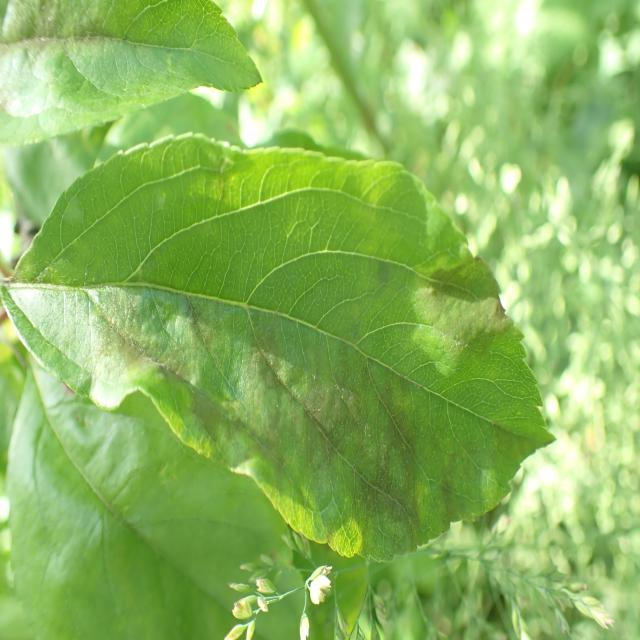scab: (36, 235, 524, 544), (0, 0, 163, 89)
